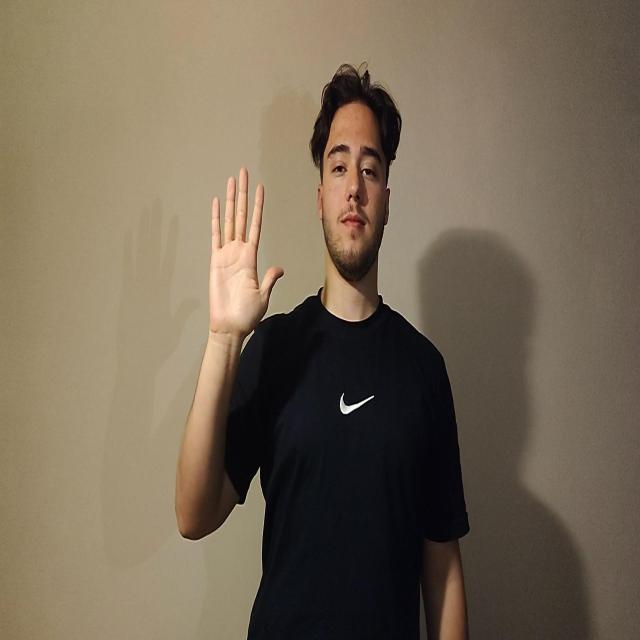hello: (208, 166, 284, 341)
